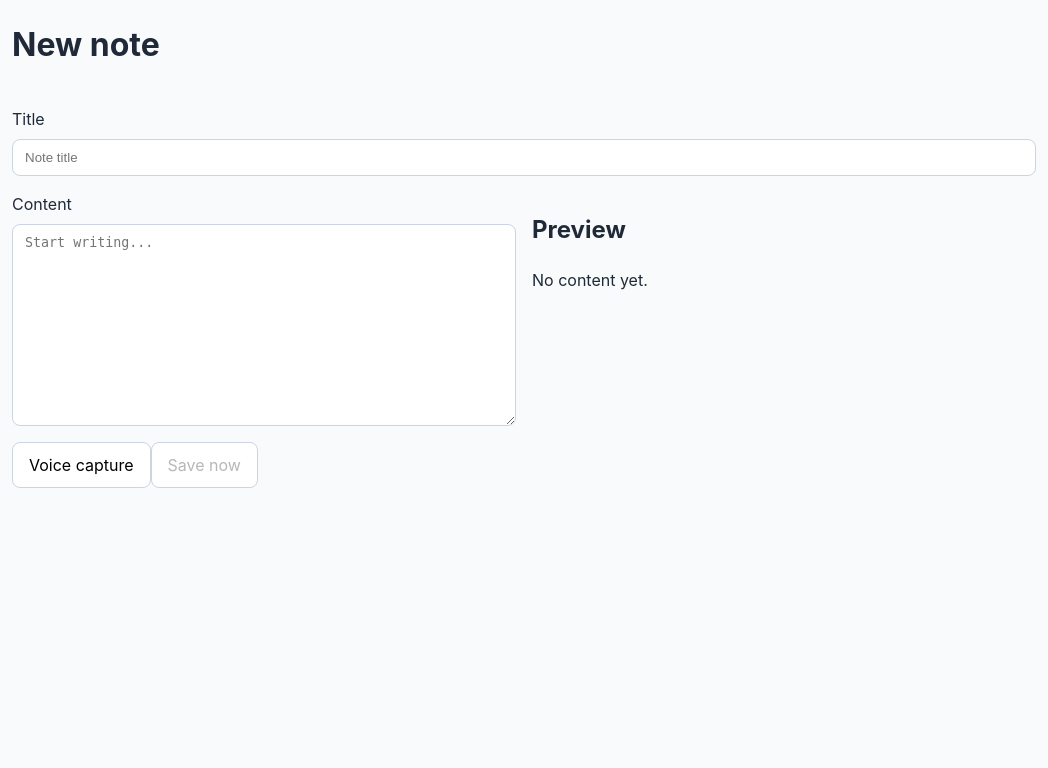
Test: NoteEditor › supports voice capture and shows review banner
In the field with placeholder "Note title": [524, 157] box [12,139,1036,176], type "Voice note"
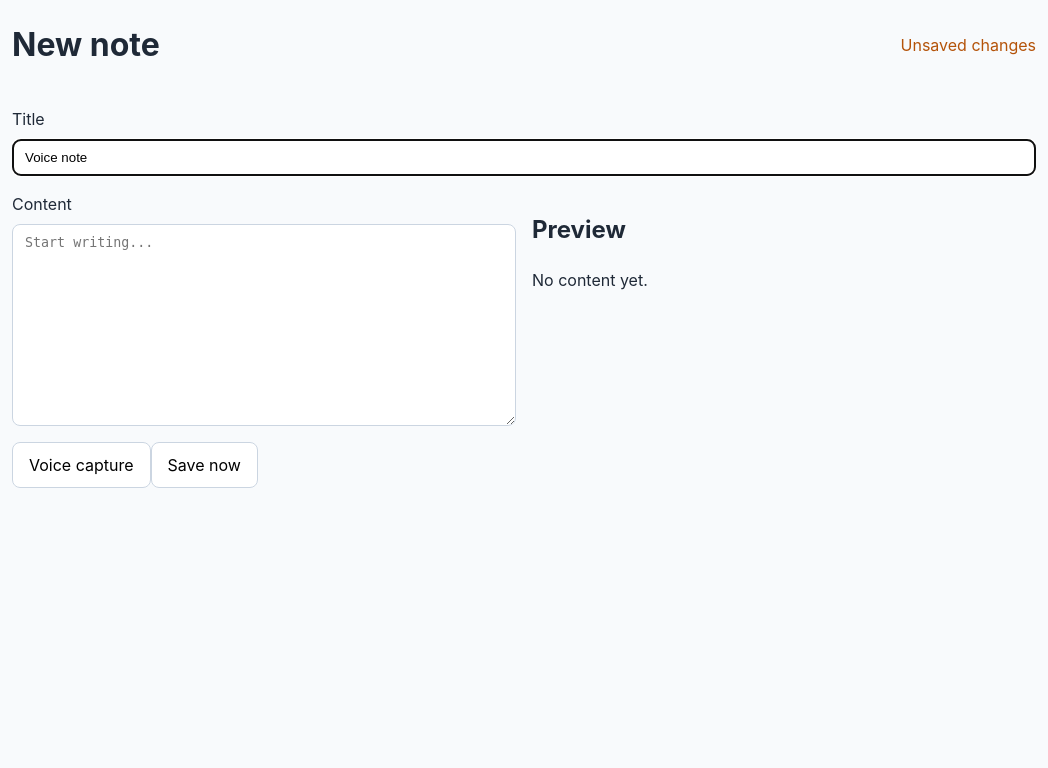
Click the button "Voice capture": [81, 465] box [12,442,150,488]
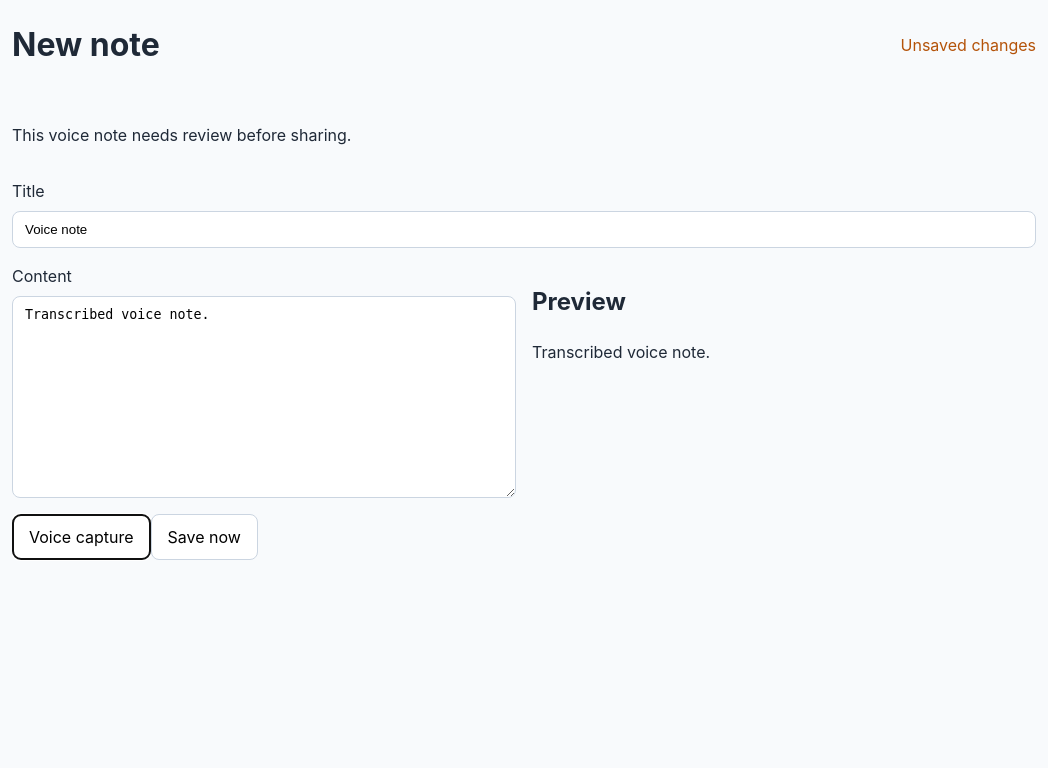
Check: the text "This voice note needs review before sharing." is shown, box [12,125,351,145]
Check: the text box showing "Transcribed voice note" is shown, box [12,296,516,498]
